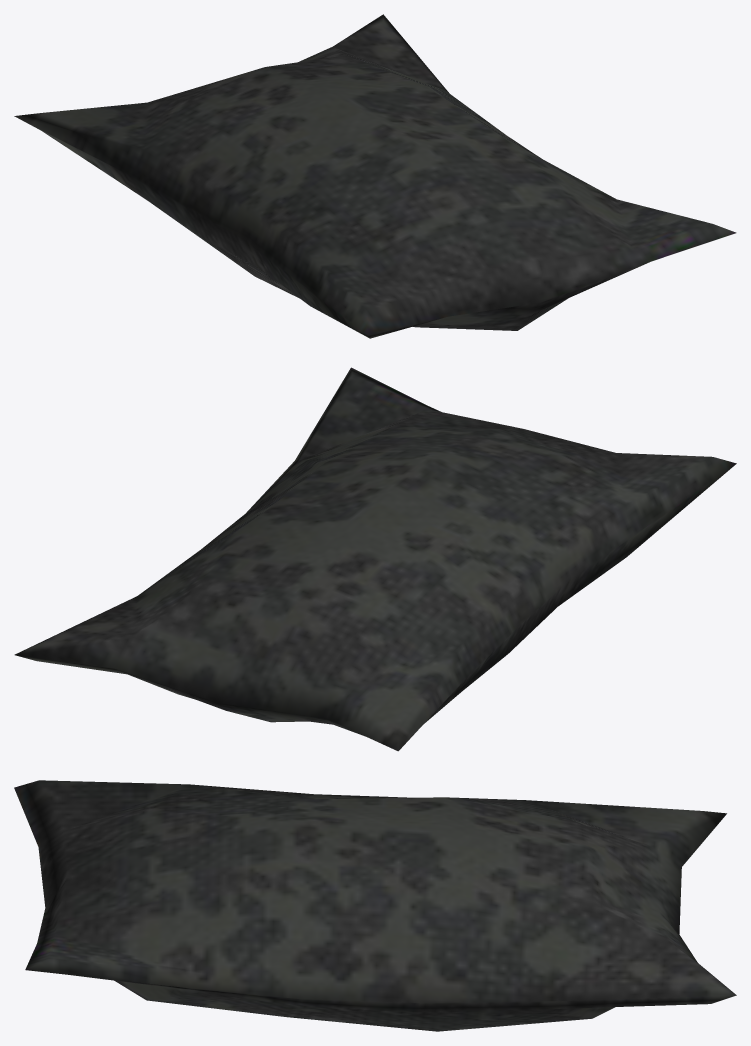
The model's file is Cushion.FBX.
The picture shows the model from 3 angles, top to bottom: view 1: azimuth 30°, elevation 25°; view 2: azimuth 150°, elevation 25°; view 3: azimuth 270°, elevation 25°; orthographic projection. The views are drawn at different scales.
Visible parts, largest first — view 1: Cushion; view 2: Cushion; view 3: Cushion.
Boxes of the visible parts, left/top/right/bottom form: Cushion: left=14, top=14, right=736, bottom=338; Cushion: left=14, top=367, right=736, bottom=751; Cushion: left=14, top=780, right=736, bottom=1031.
Bounding box in the file's own units: 47.03 × 19.65 × 73.71.
